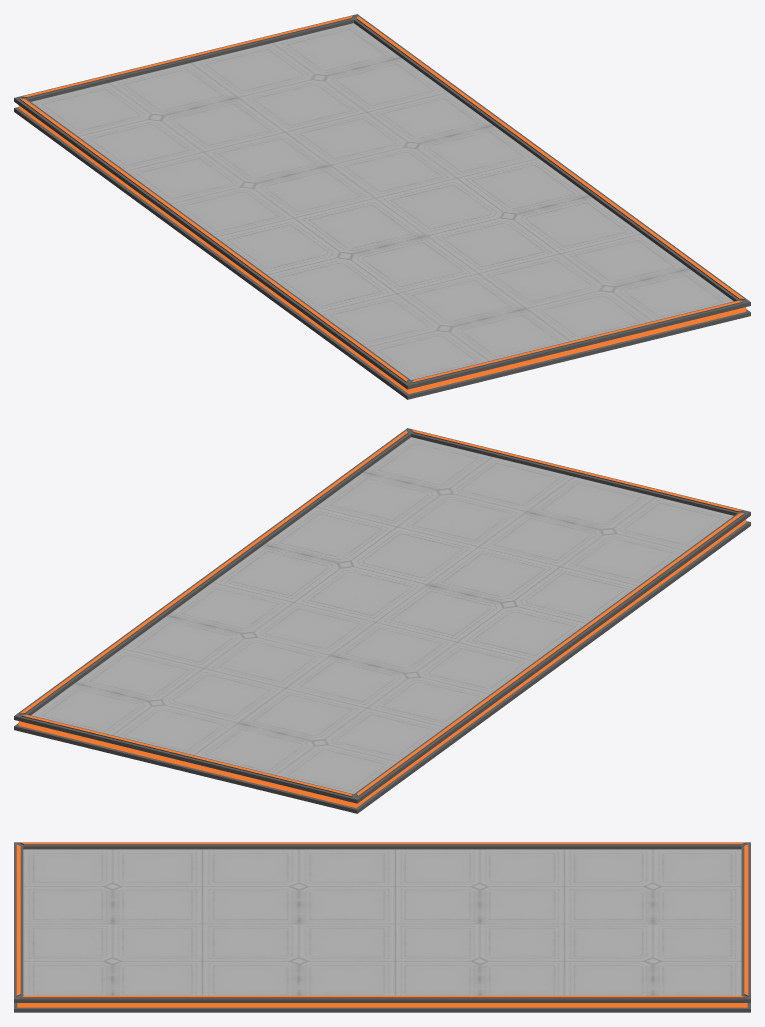
File: Bodenplatte_04.glb
3 views of the same model, one above another, from view 1: azimuth 30°, elevation 25°; view 2: azimuth 150°, elevation 25°; view 3: azimuth 270°, elevation 25° (orthographic). The views are drawn at different scales.
Parts seen in each view (by area): view 1: Bodenplatte_04; view 2: Bodenplatte_04; view 3: Bodenplatte_04.
Boxes of the visible parts, box(x1,y1,x2,y2) form: Bodenplatte_04: box(14, 14, 750, 399); Bodenplatte_04: box(14, 428, 750, 813); Bodenplatte_04: box(14, 842, 750, 1012).
Size of the model in its own units: 5.05 by 0.2097 by 10.02.
Materials: 3 (1 with a texture image).
